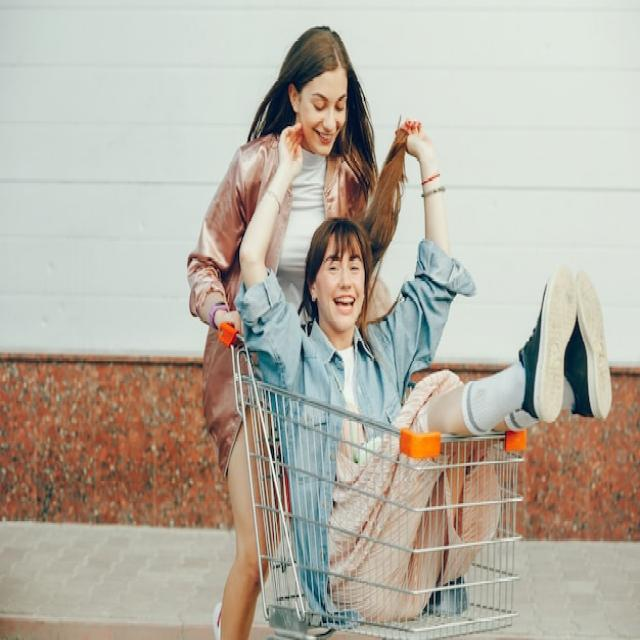Person: (233, 119, 612, 624), (187, 25, 409, 640)
